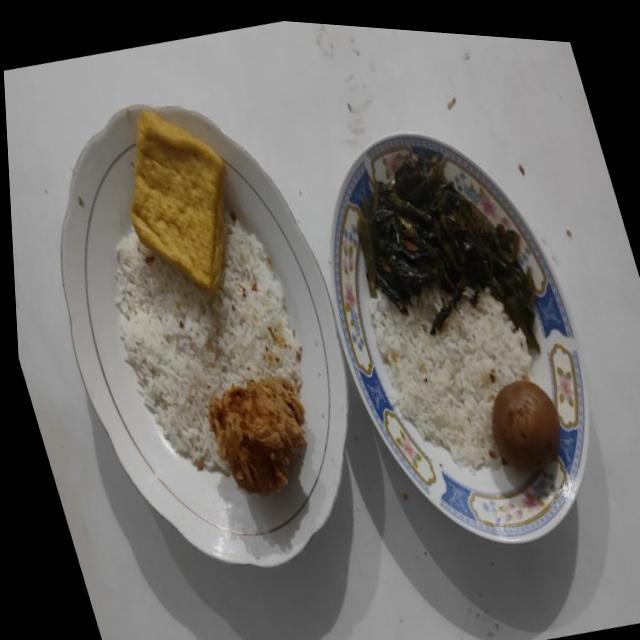nasi_putih: (115, 222, 302, 472), (369, 284, 532, 473)
tahu_goreng: (132, 111, 226, 292)
tumis_kangkung: (358, 153, 540, 352)
